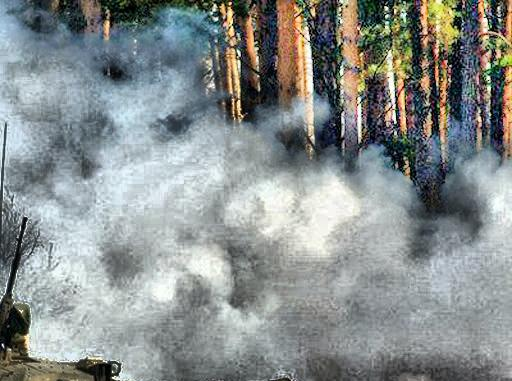tanks: (1, 231, 123, 381), (260, 379, 293, 381)
